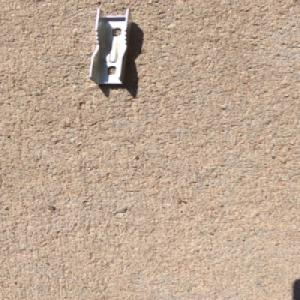ClampPart: (85, 5, 136, 87)
